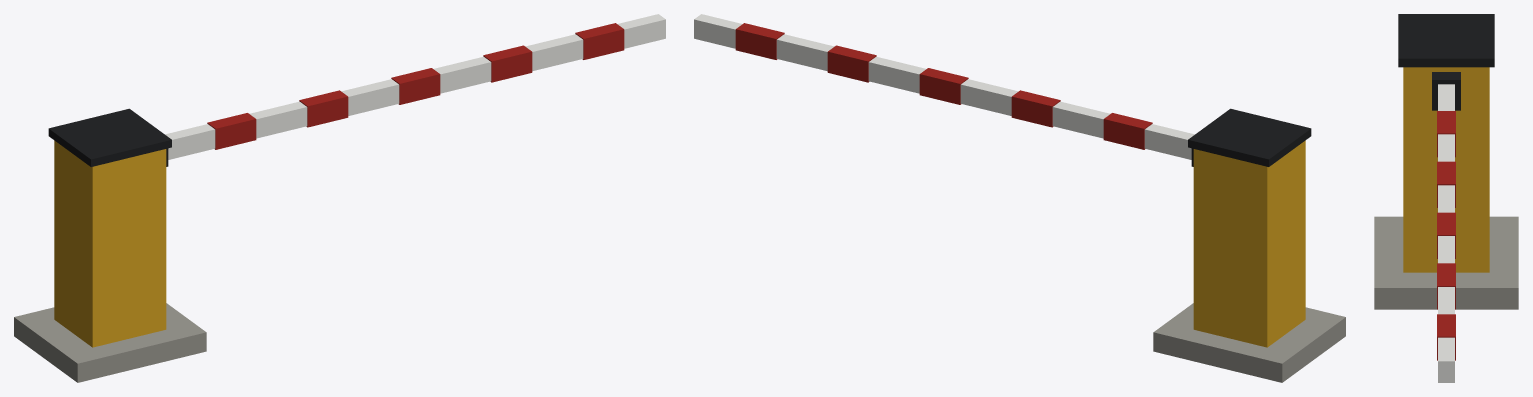
Rendered from boom_barrier.glb.
The picture shows the model from 3 angles, left to right: view 1: azimuth 30°, elevation 25°; view 2: azimuth 150°, elevation 25°; view 3: azimuth 270°, elevation 25°; orthographic projection. The views are drawn at different scales.
Parts seen in each view (by area): view 1: boom_barrier; view 2: boom_barrier; view 3: boom_barrier.
Part boxes in pixels (x1,y1,x2,y2): boom_barrier: [14, 14, 665, 382]; boom_barrier: [694, 14, 1345, 382]; boom_barrier: [1374, 14, 1518, 382].
Bounding box in the file's own units: 3.35 × 1.09 × 0.6.
1 material, 1 textured.
